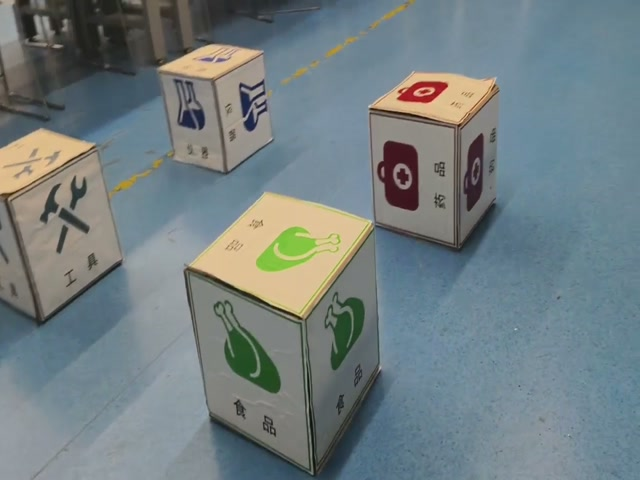Cube_food: (182, 188, 378, 324)
Cube_ins: (157, 40, 267, 82)
Cube_medicine: (368, 67, 498, 129)
Cube_tool: (1, 121, 98, 202)
